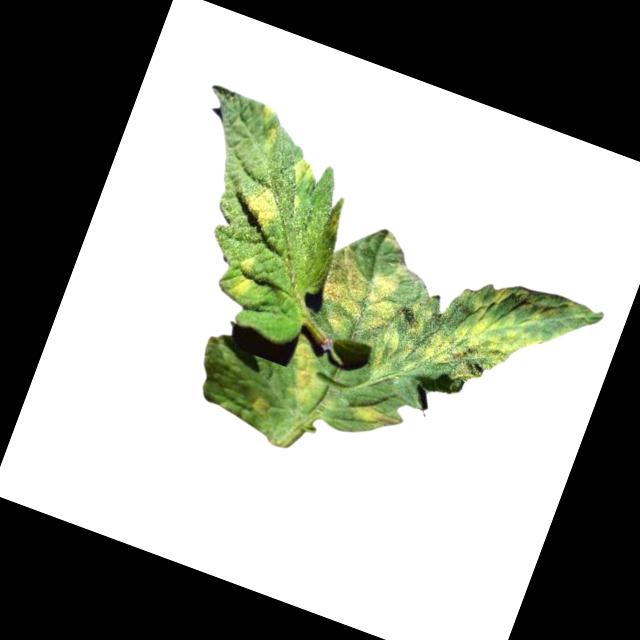Leaf_Mold: (380, 244, 606, 439), (307, 239, 417, 353), (271, 335, 338, 417), (236, 175, 293, 233), (349, 398, 402, 439), (247, 100, 287, 153), (224, 248, 263, 301), (289, 151, 323, 191), (251, 393, 274, 418)
